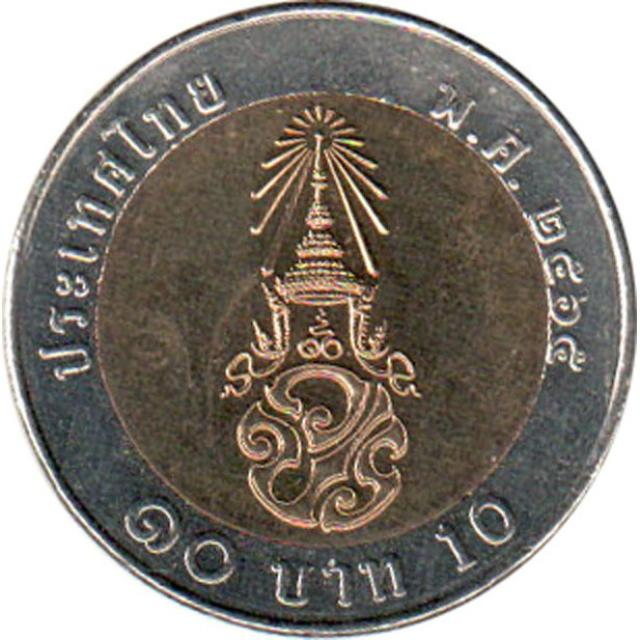10 Bath: (1, 4, 640, 640)
